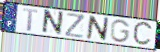C: (132, 21, 155, 48)
G: (110, 19, 132, 44)
N: (40, 9, 65, 37), (85, 15, 110, 42)
T: (22, 7, 40, 32)
Z: (64, 12, 85, 39)
